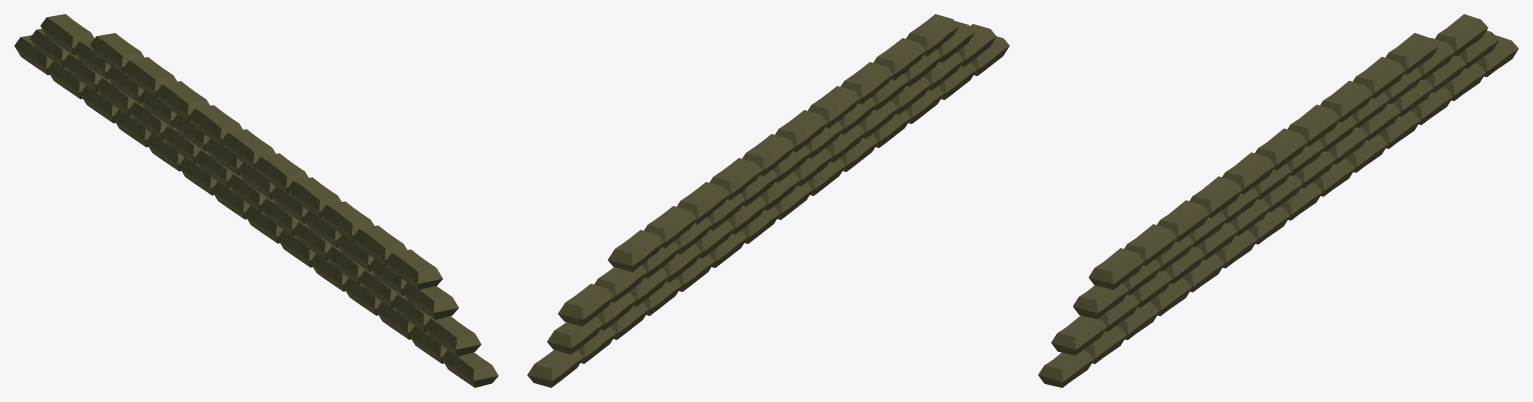
The model's file is Barricade_3.obj.
The picture shows the model from 3 angles, left to right: view 1: azimuth 30°, elevation 25°; view 2: azimuth 150°, elevation 25°; view 3: azimuth 330°, elevation 25°; orthographic projection.
Parts seen in each view (by area): view 1: Cube.133_Cube.134; view 2: Cube.133_Cube.134; view 3: Cube.133_Cube.134.
Boxes of the visible parts, <box> form: Cube.133_Cube.134: <box>14,14,498,387</box>; Cube.133_Cube.134: <box>527,14,1009,387</box>; Cube.133_Cube.134: <box>1038,14,1518,387</box>.
Bounding box in the file's own units: 0.2615 × 0.6973 × 7.4.
